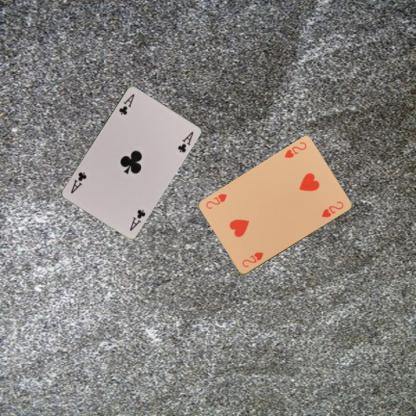2h: (281, 140, 308, 160), (239, 250, 265, 268)
Ac: (126, 206, 146, 232), (116, 91, 136, 116)
